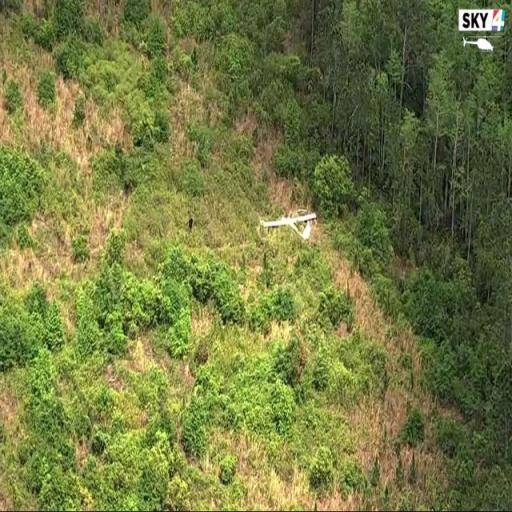uav: (260, 208, 322, 242)
